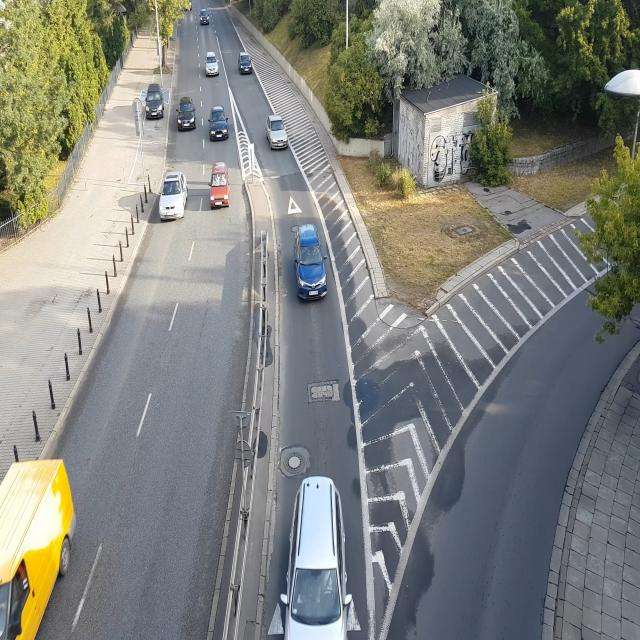car: (0, 450, 88, 639), (282, 470, 359, 640), (288, 208, 334, 308), (157, 161, 190, 224), (207, 155, 232, 214), (263, 109, 294, 154), (206, 98, 233, 145), (142, 81, 166, 126), (176, 92, 198, 136), (201, 41, 223, 83), (238, 43, 255, 83), (196, 6, 212, 31)
